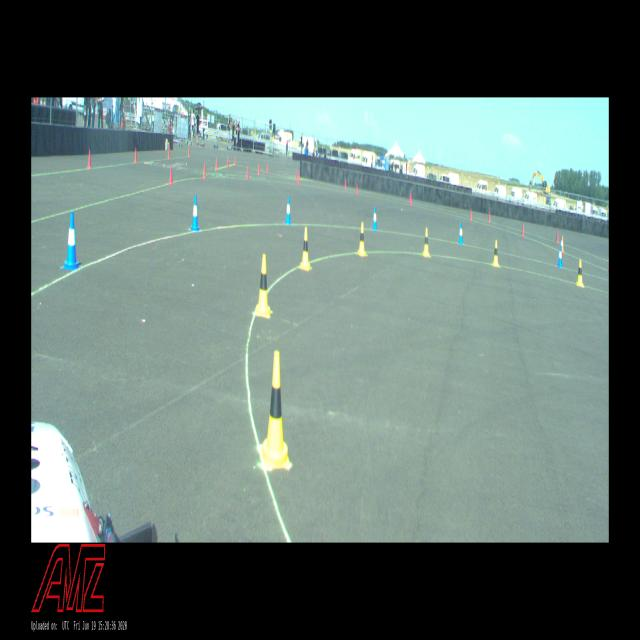blue_cone: (64, 212, 79, 269), (190, 195, 200, 231), (285, 197, 291, 225), (372, 207, 378, 230), (557, 245, 563, 268), (458, 222, 463, 244)
orange_cone: (561, 236, 564, 253)
unknown_cone: (87, 149, 91, 168), (169, 166, 173, 185), (203, 162, 206, 179), (134, 148, 137, 162), (246, 166, 249, 180), (556, 230, 559, 243), (215, 158, 218, 170), (488, 210, 491, 222), (522, 224, 524, 238), (470, 208, 472, 221), (168, 146, 170, 159), (298, 173, 300, 185), (258, 163, 260, 175), (356, 182, 358, 194), (227, 156, 229, 167), (188, 146, 190, 157), (266, 162, 268, 173), (410, 194, 412, 205), (295, 170, 297, 180), (409, 191, 411, 201), (345, 178, 346, 189), (235, 155, 236, 164)
yellow_cone: (263, 351, 289, 466), (256, 254, 271, 316), (300, 227, 310, 270), (358, 222, 366, 256), (576, 260, 584, 286), (492, 240, 499, 266), (423, 228, 429, 257)
